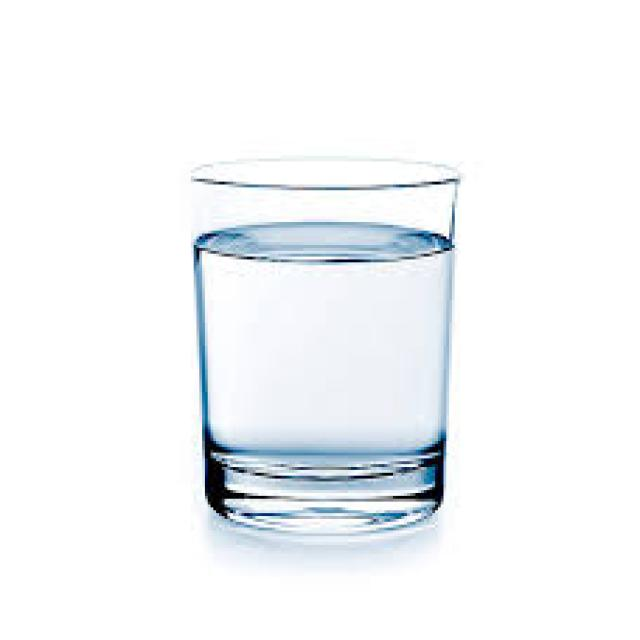Cup: (200, 152, 464, 542)
